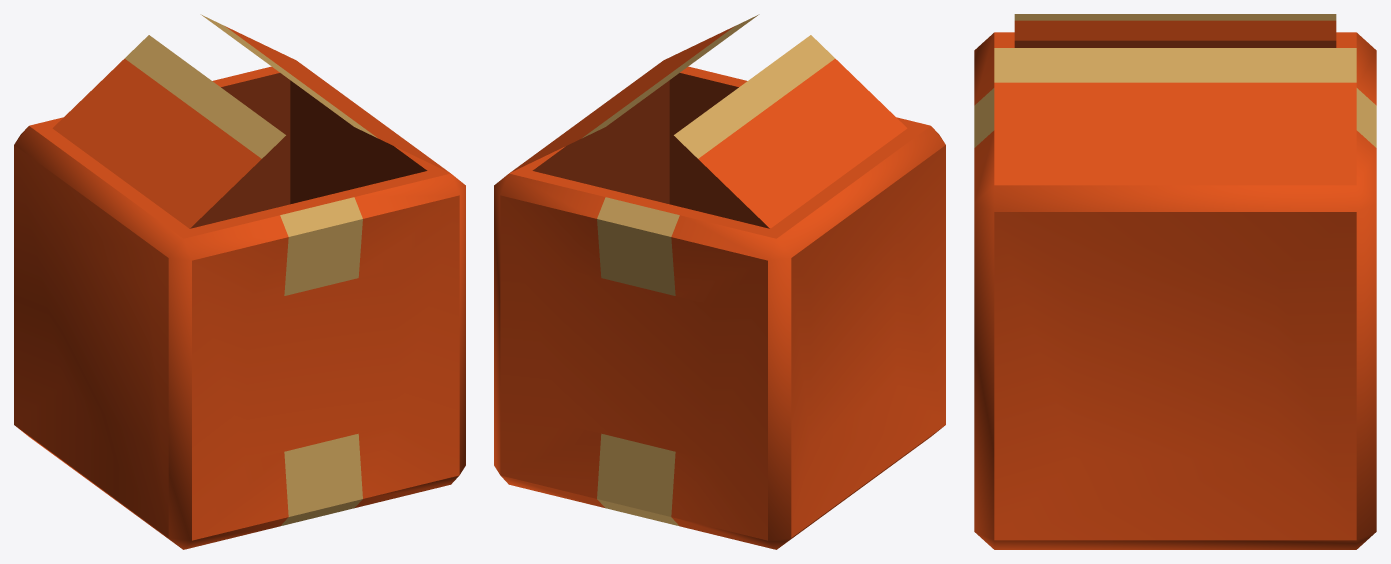
The model's file is boxOpen.obj.
3 renders of one model, left to right at view 1: azimuth 30°, elevation 25°; view 2: azimuth 150°, elevation 25°; view 3: azimuth 270°, elevation 25°, orthographic. The views are drawn at different scales.
Visible parts, largest first — view 1: boxOpen; view 2: boxOpen; view 3: boxOpen.
Part boxes in pixels (left/top/right/bottom): boxOpen: left=14, top=14, right=465, bottom=549; boxOpen: left=494, top=14, right=945, bottom=549; boxOpen: left=974, top=14, right=1376, bottom=549.
Size of the model in its own units: 0.25 by 0.3063 by 0.25.
